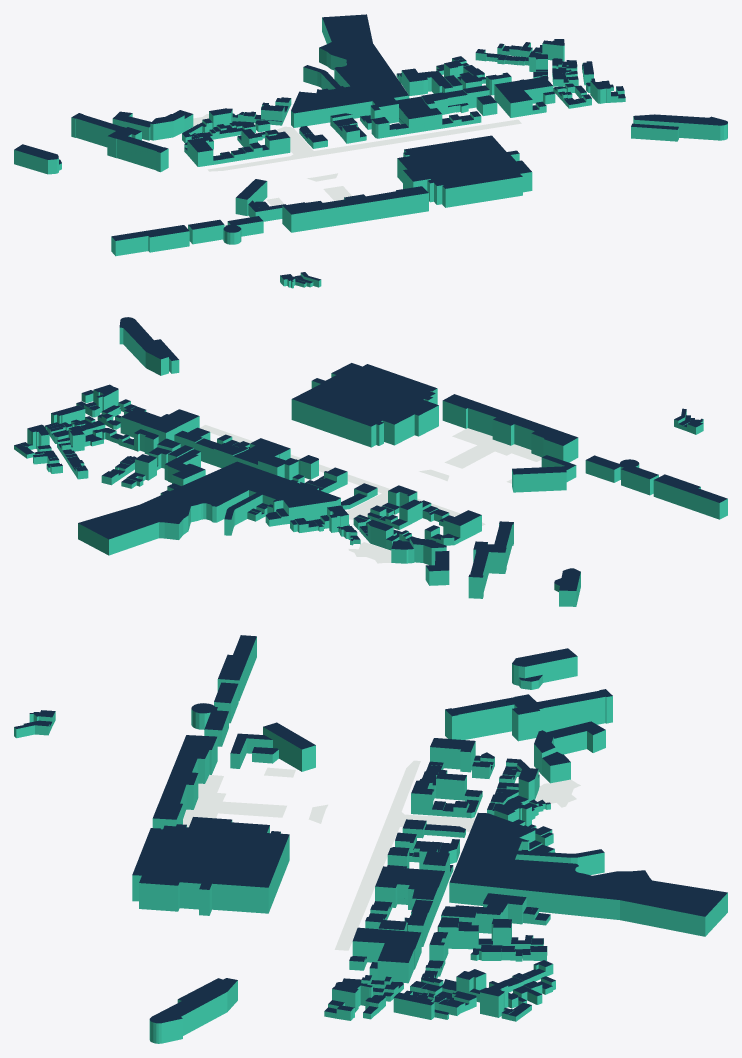
Rendered from Becode_3D.glb.
3 renders of one model, top to bottom at view 1: azimuth 30°, elevation 25°; view 2: azimuth 150°, elevation 25°; view 3: azimuth 270°, elevation 25°, orthographic. The views are drawn at different scales.
Visible parts, largest first — view 1: map_14.osm_buildings, map_14.osm_areas_pedestrian; view 2: map_14.osm_buildings, map_14.osm_areas_pedestrian; view 3: map_14.osm_buildings, map_14.osm_areas_pedestrian.
Part boxes in pixels (bbox=[...]): map_14.osm_buildings: bbox=[14, 14, 727, 288]; map_14.osm_areas_pedestrian: bbox=[193, 114, 521, 205]; map_14.osm_buildings: bbox=[14, 317, 727, 606]; map_14.osm_areas_pedestrian: bbox=[200, 425, 541, 563]; map_14.osm_buildings: bbox=[14, 635, 727, 1043]; map_14.osm_areas_pedestrian: bbox=[183, 760, 580, 950].
Size of the model in its own units: 684 by 21.74 by 532.
